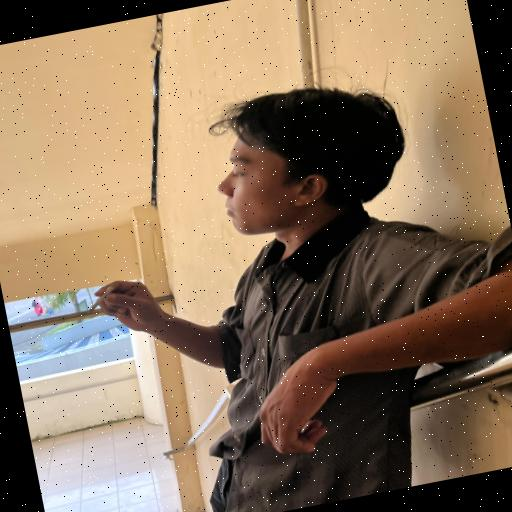pegang rokok: (59, 225, 206, 376)
